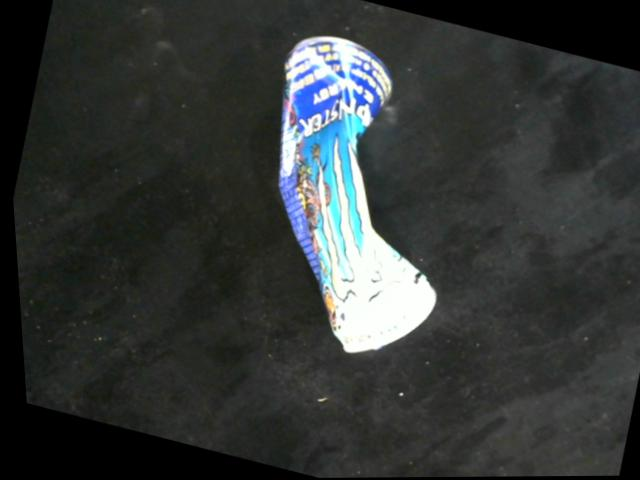can: (274, 36, 435, 355)
